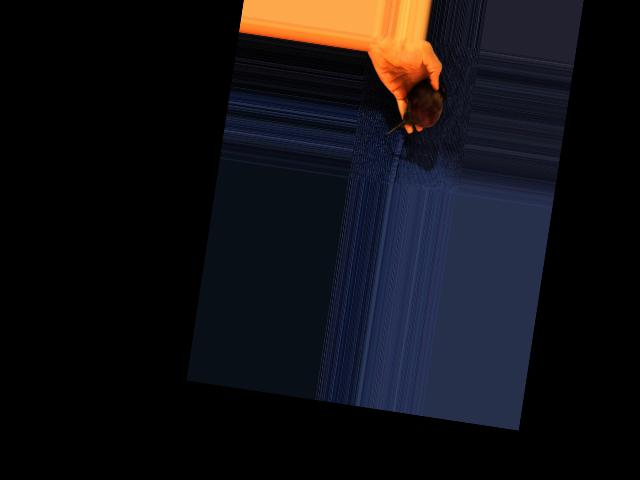beet: (385, 74, 448, 142)
